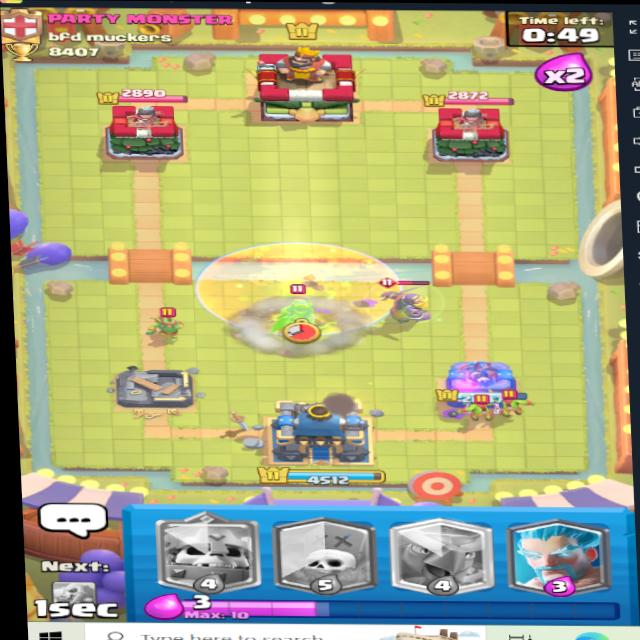archer-queen: (262, 284, 337, 345)
evo-knight: (378, 278, 441, 329)
goblin: (495, 385, 531, 426), (464, 396, 500, 423)
spear-goblin: (140, 299, 190, 339)
